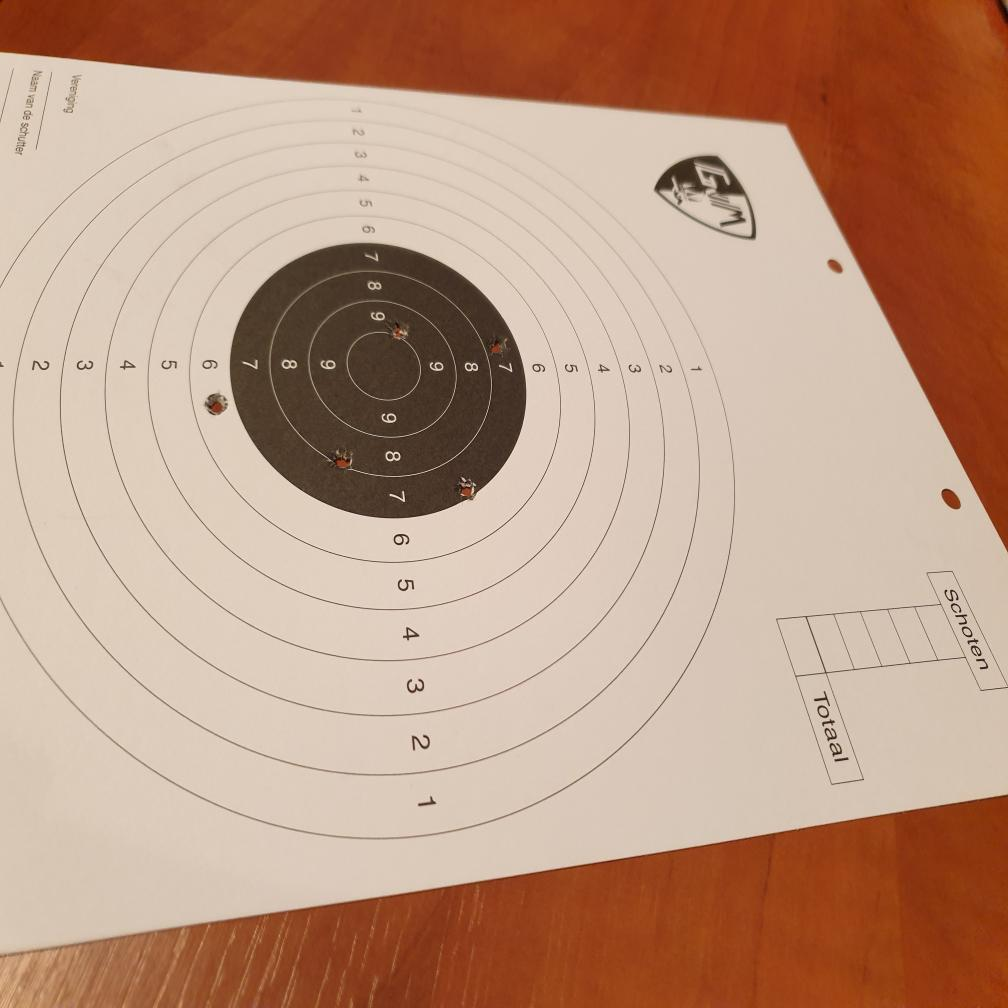10: (385, 318, 411, 340)
6: (201, 389, 232, 420)
7: (484, 331, 512, 360), (454, 474, 478, 504)
8: (327, 444, 355, 474)
Target: (0, 92, 740, 844)
black_contour: (228, 240, 527, 518)
